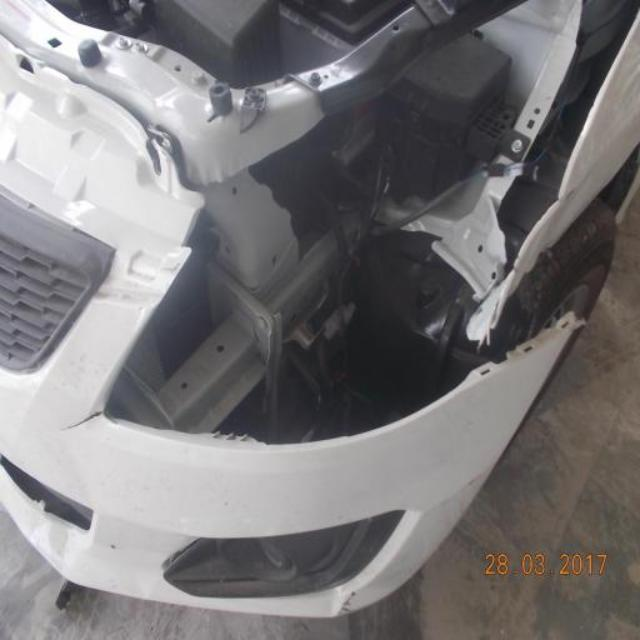dislocated part: (475, 145, 636, 381)
no part: (64, 3, 587, 456)
